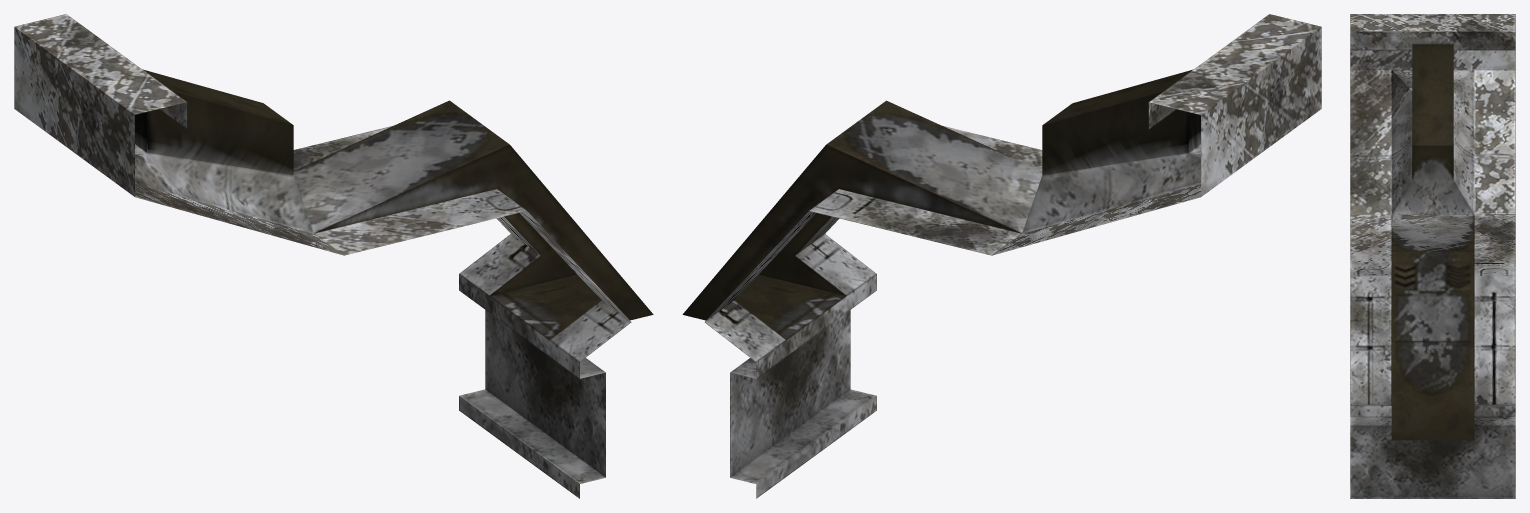
The model's file is stct_WH_z1_wall_nobottom.fbx.
The picture shows the model from 3 angles, left to right: view 1: azimuth 30°, elevation 25°; view 2: azimuth 150°, elevation 25°; view 3: azimuth 270°, elevation 25°; orthographic projection. The views are drawn at different scales.
Parts seen in each view (by area): view 1: polySurface257; view 2: polySurface257; view 3: polySurface257.
Part boxes in pixels (bbox=[...]): polySurface257: bbox=[14, 14, 653, 498]; polySurface257: bbox=[682, 14, 1321, 498]; polySurface257: bbox=[1350, 14, 1515, 498].
Size of the model in its own units: 672 by 576 by 256.
